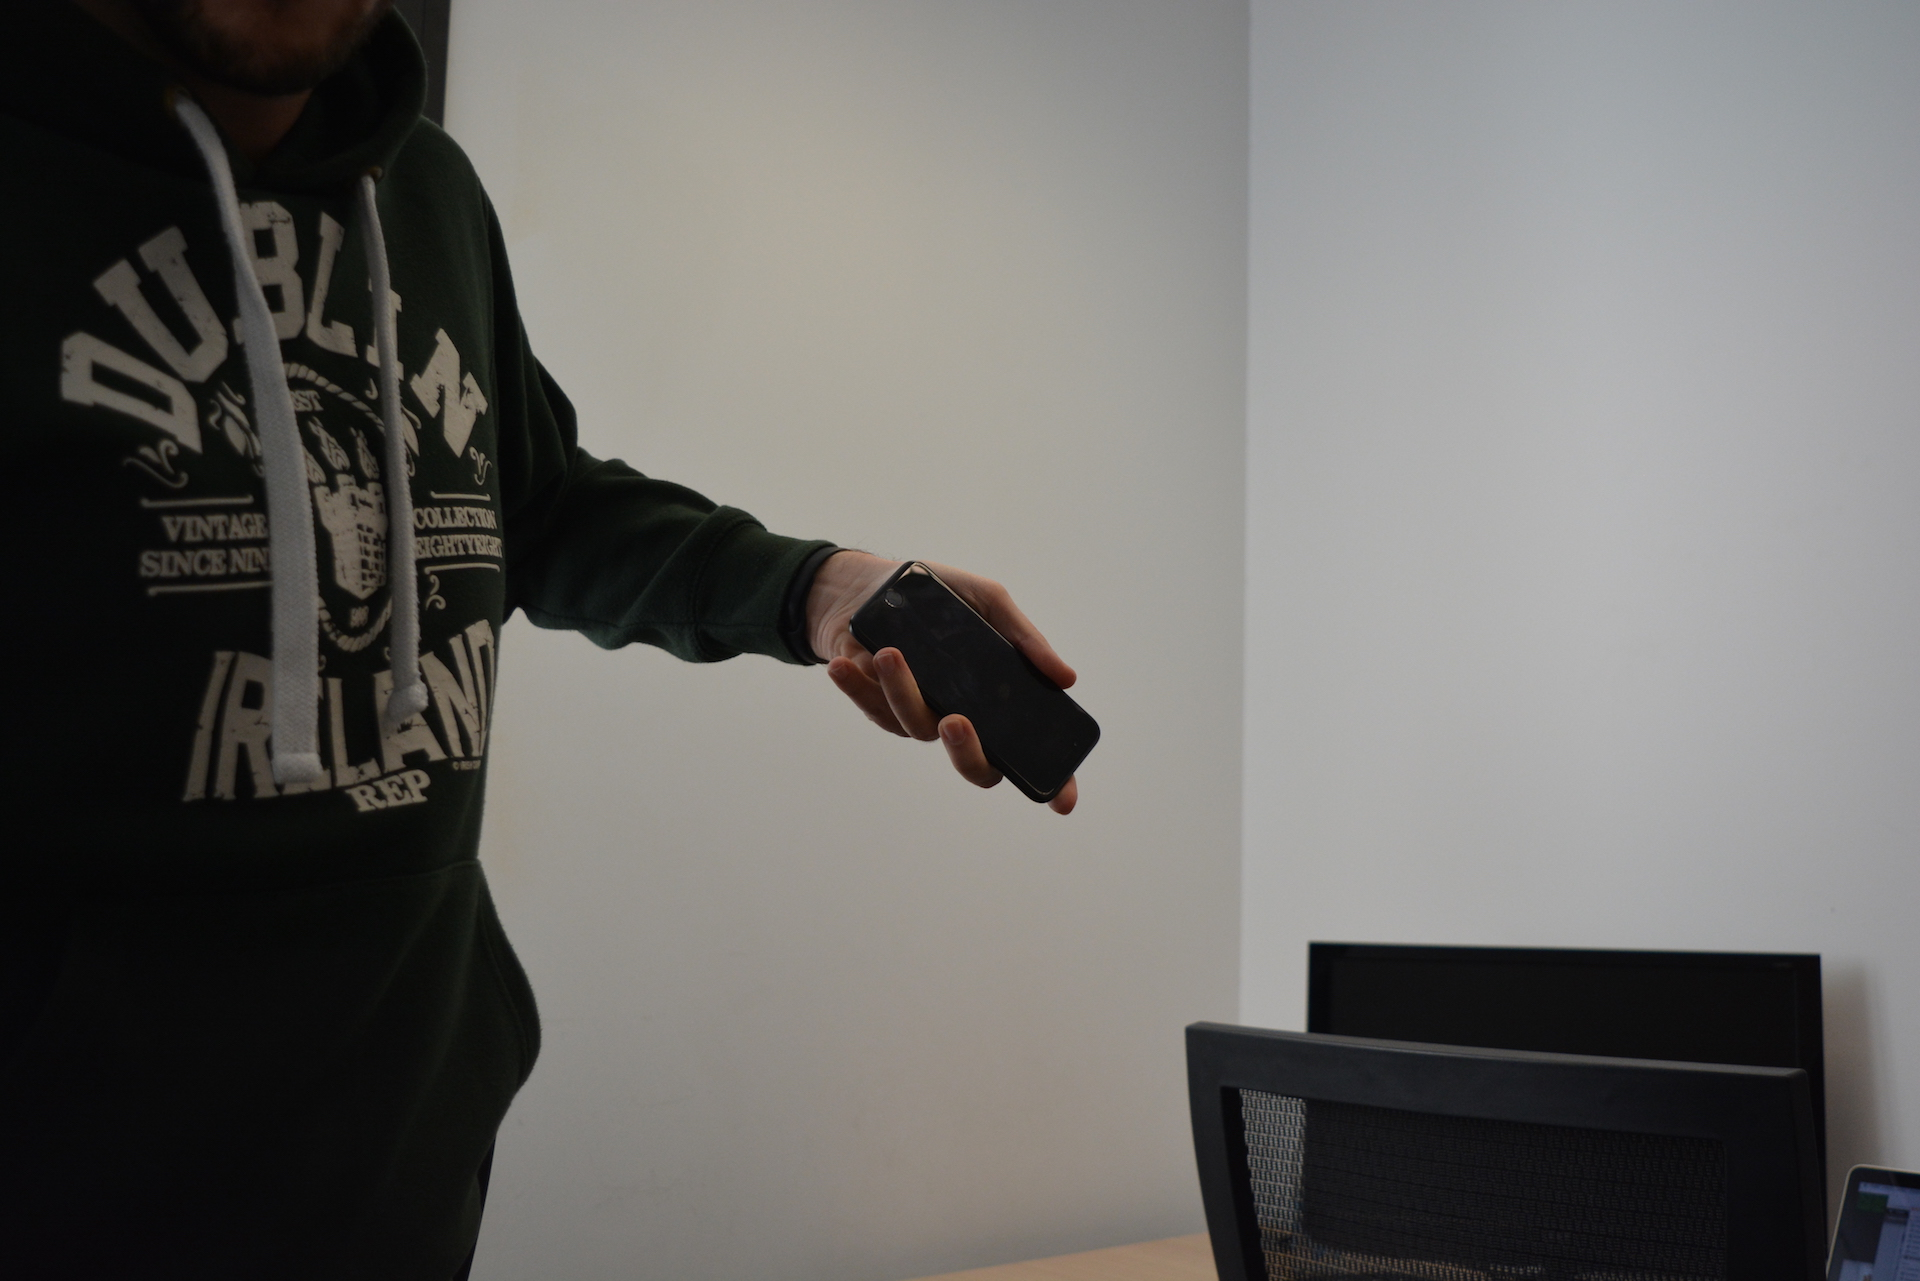smartphone: (846, 558, 1102, 806)
